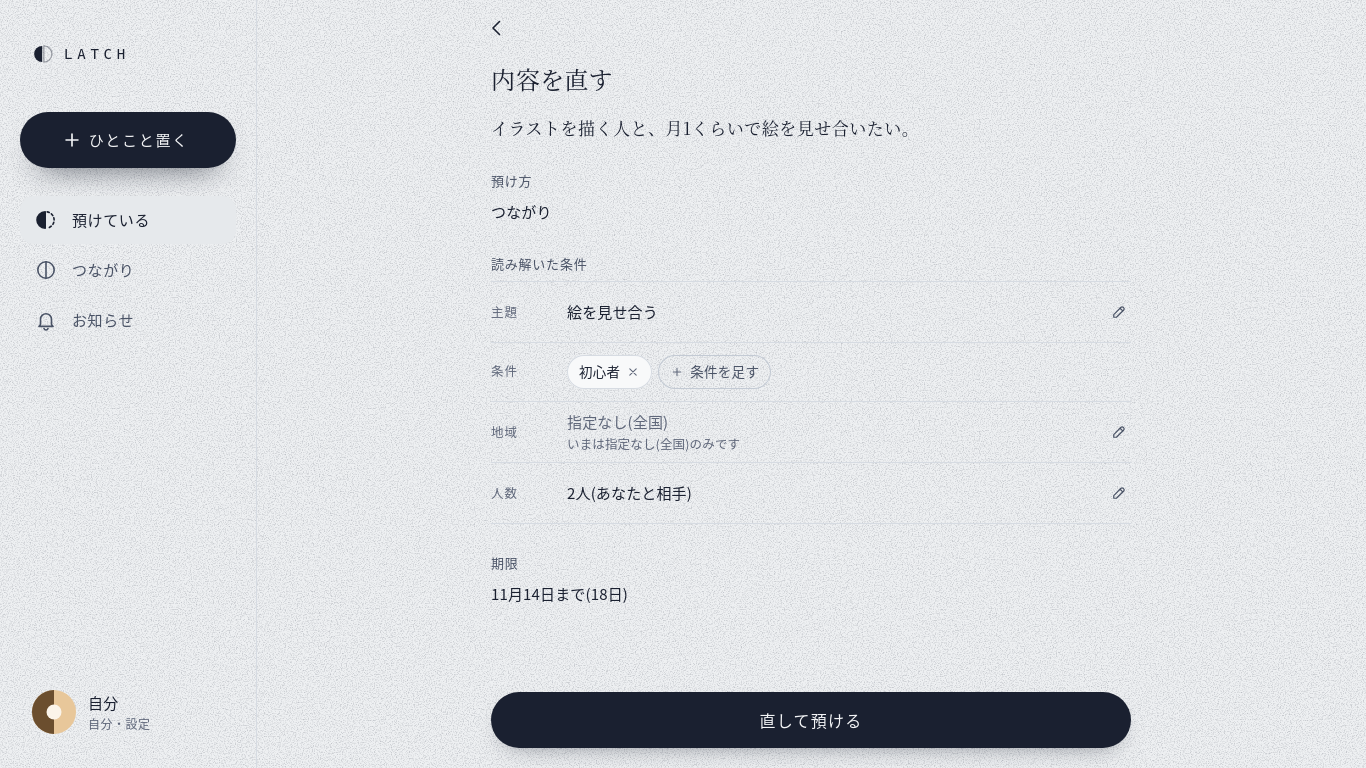
it: IntentEdit › 400の理由コードはREASON_MESSAGESの文で出す
The width and height of the screenshot is (1366, 768).
Click the button named "主題を直す": (1119, 312) [1097,290,1141,334]
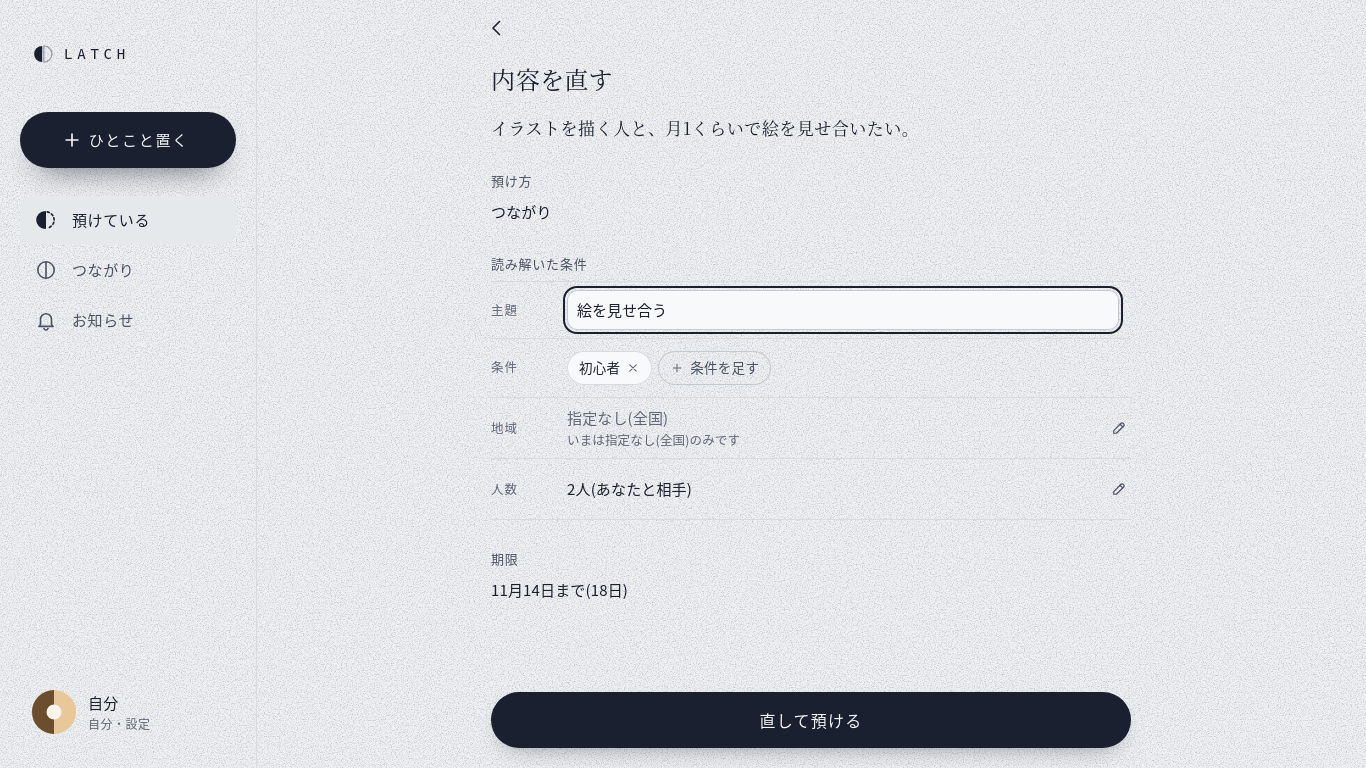
Replace the text in the field named "主題" with "新しい主題": (843, 310) [567,290,1119,330]
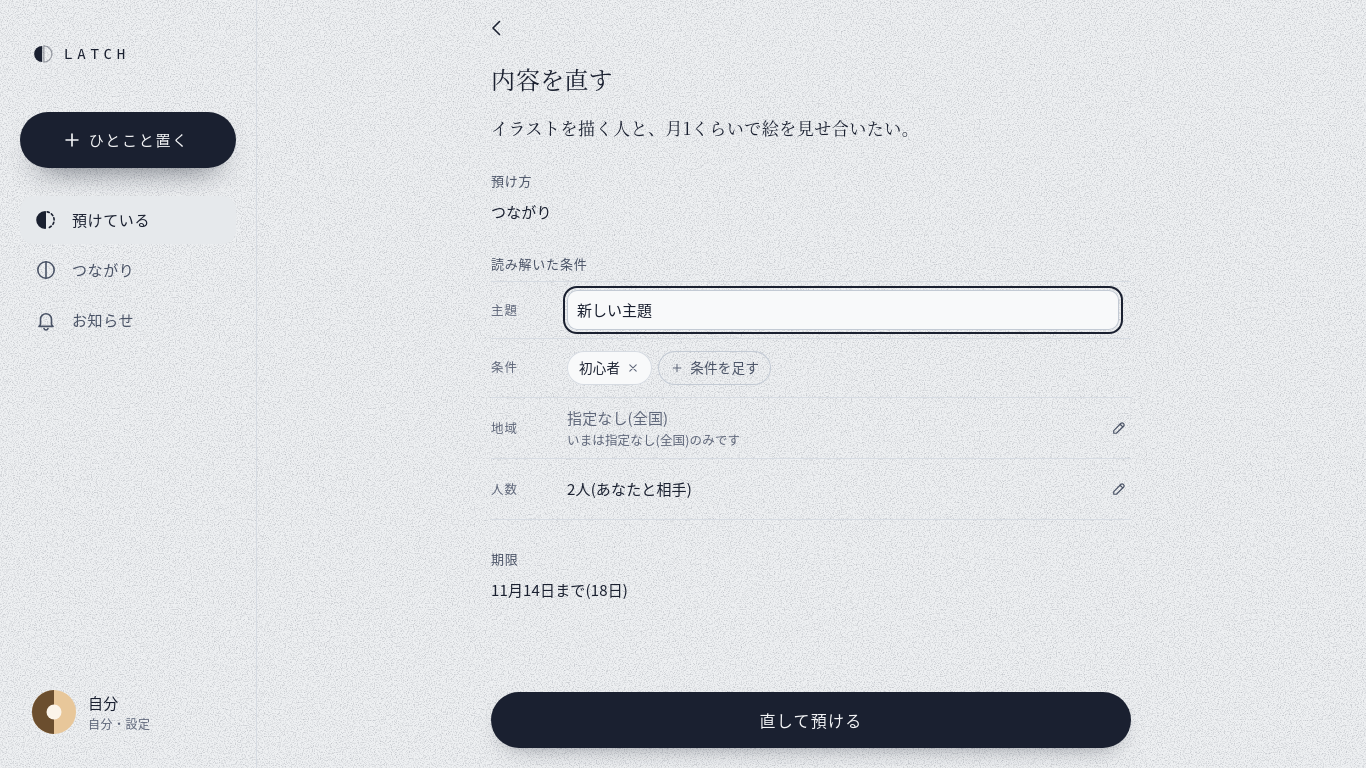
Press Enter in the field named "主題", box [567,290,1119,330]
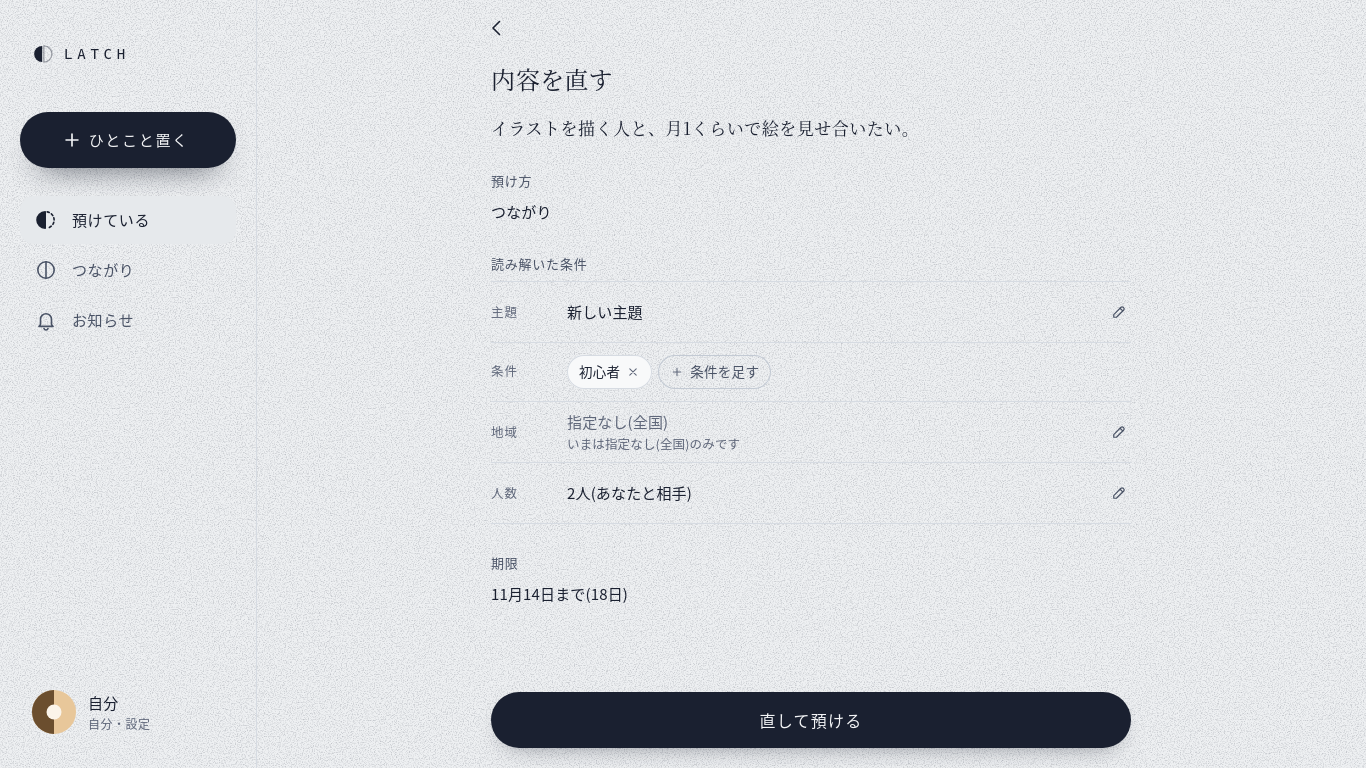
Click the button "直して預ける": (811, 720) [491,692,1131,748]
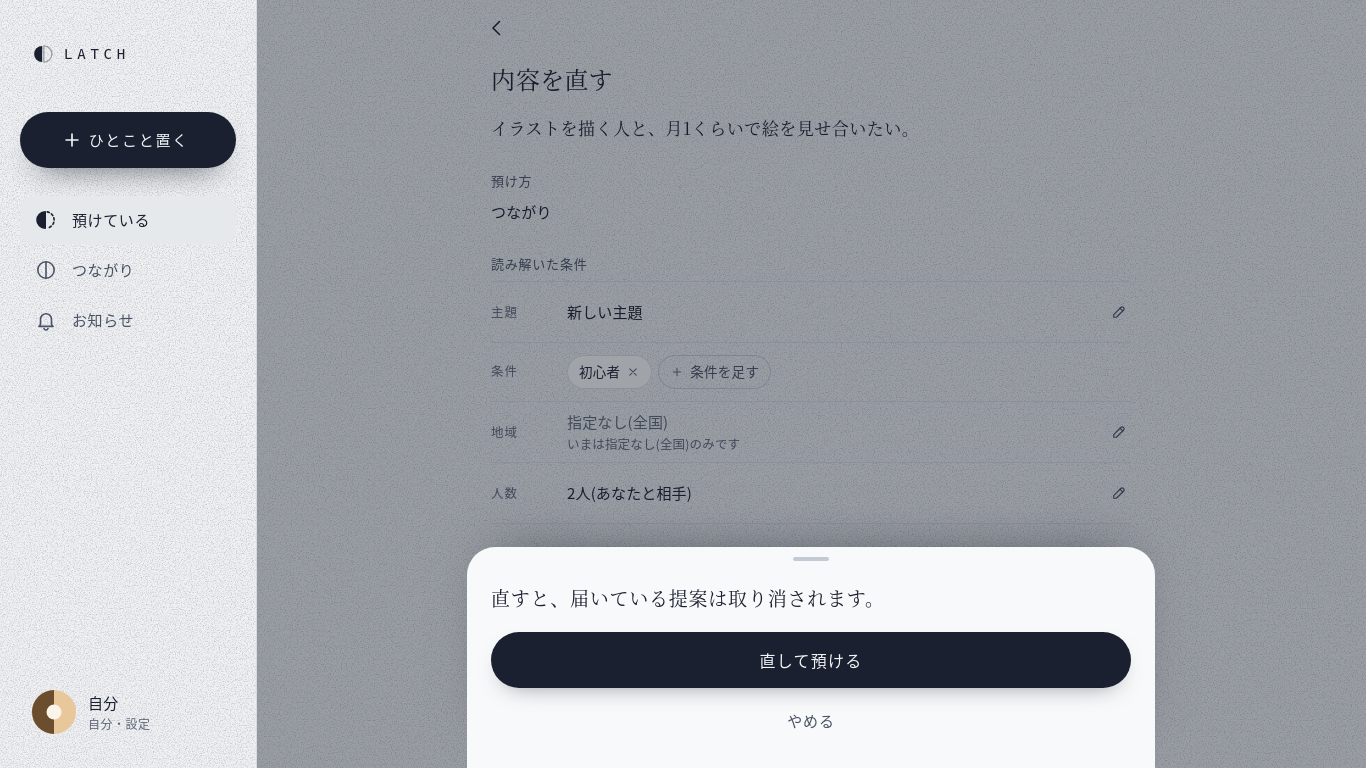
Click the button with class "btn--primary" showing "直して預ける": (811, 660) [491,632,1131,688]
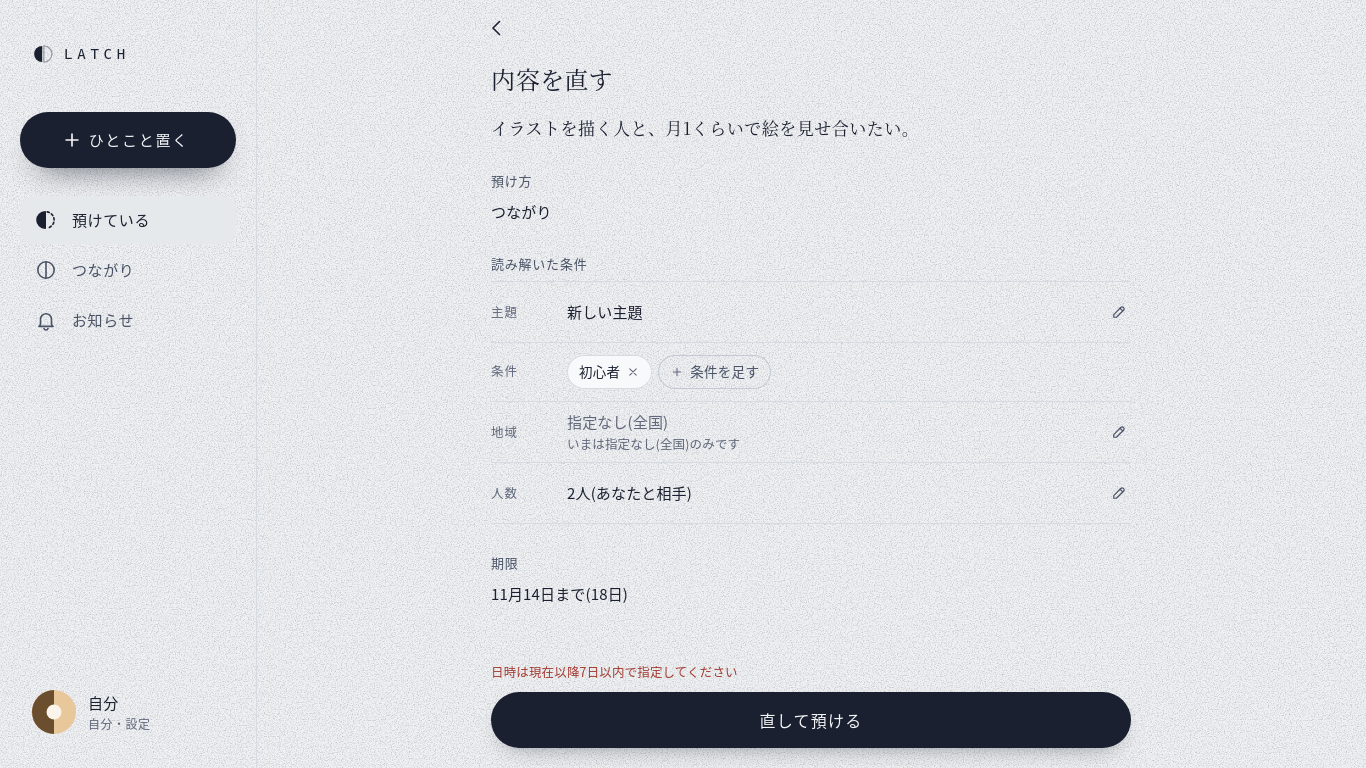
Result: the text "日時は現在以降7日以内で指定してください" is shown at [491,662,738,681]
Result: the dialog is gone
